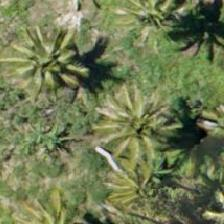Kelapa_Sawit: (1, 10, 91, 100), (96, 82, 186, 172), (108, 0, 198, 54)
